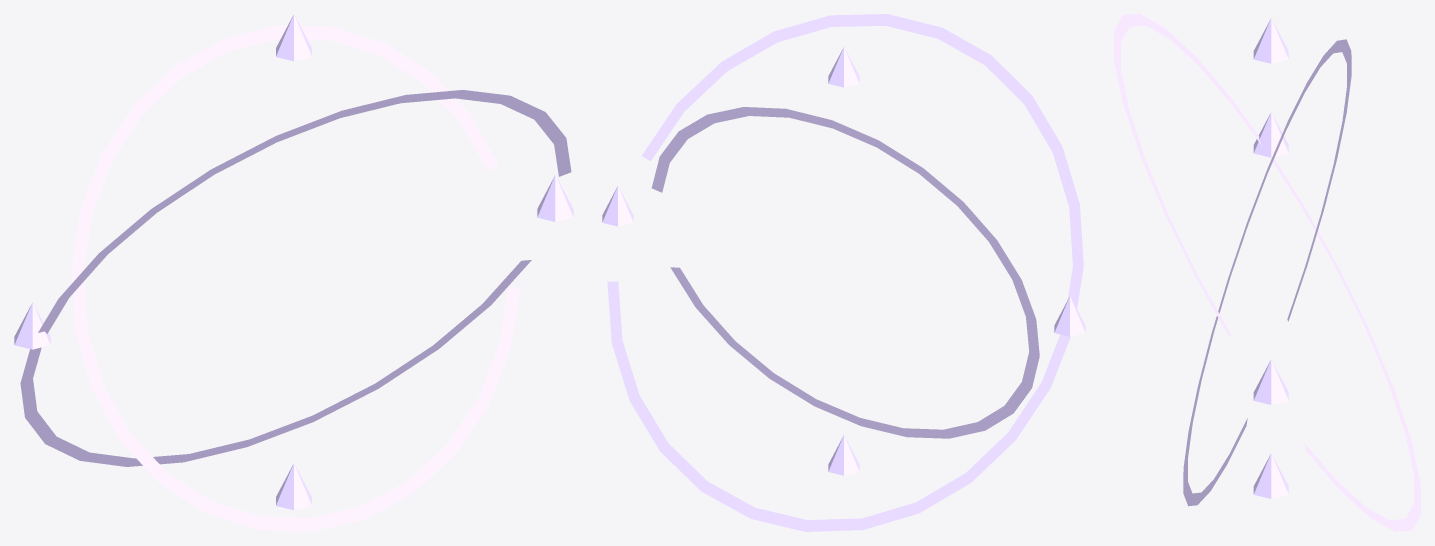
File: ORION_AWAKENED_BUILD.glb
3 renders of one model, left to right at view 1: azimuth 30°, elevation 25°; view 2: azimuth 150°, elevation 25°; view 3: azimuth 270°, elevation 25°, orthographic. The views are drawn at different scales.
Parts seen in each view (by area): view 1: ANI08C_orion-vell_1_orbit0, ANI08C_orion-vell_1_orbit1, ANI08C_orion-vell_1_orbital_node0, ANI08C_orion-vell_1_orbital_node3, ANI08C_orion-vell_1_orbital_node1, ANI08C_orion-vell_1_orbital_node2; view 2: ANI08C_orion-vell_1_orbit1, ANI08C_orion-vell_1_orbit0, ANI08C_orion-vell_1_orbital_node0, ANI08C_orion-vell_1_orbital_node3, ANI08C_orion-vell_1_orbital_node1, ANI08C_orion-vell_1_orbital_node2; view 3: ANI08C_orion-vell_1_orbit1, ANI08C_orion-vell_1_orbit0, ANI08C_orion-vell_1_orbital_node1, ANI08C_orion-vell_1_orbital_node0, ANI08C_orion-vell_1_orbital_node3, ANI08C_orion-vell_1_orbital_node2.
Part boxes in pixels (x1,y1,x2,y2): ANI08C_orion-vell_1_orbit0: (71, 25, 520, 531); ANI08C_orion-vell_1_orbit1: (20, 90, 571, 466); ANI08C_orion-vell_1_orbital_node0: (537, 175, 573, 221); ANI08C_orion-vell_1_orbital_node3: (276, 463, 311, 510); ANI08C_orion-vell_1_orbital_node1: (276, 14, 311, 61); ANI08C_orion-vell_1_orbital_node2: (14, 302, 50, 349); ANI08C_orion-vell_1_orbit1: (607, 14, 1083, 531); ANI08C_orion-vell_1_orbit0: (651, 107, 1039, 438); ANI08C_orion-vell_1_orbital_node0: (602, 186, 633, 226); ANI08C_orion-vell_1_orbital_node3: (828, 435, 859, 475); ANI08C_orion-vell_1_orbital_node1: (828, 47, 859, 87); ANI08C_orion-vell_1_orbital_node2: (1054, 296, 1085, 336); ANI08C_orion-vell_1_orbit1: (1114, 14, 1420, 531); ANI08C_orion-vell_1_orbit0: (1183, 39, 1351, 506); ANI08C_orion-vell_1_orbital_node1: (1253, 18, 1288, 63); ANI08C_orion-vell_1_orbital_node0: (1253, 359, 1288, 404); ANI08C_orion-vell_1_orbital_node3: (1253, 453, 1288, 498); ANI08C_orion-vell_1_orbital_node2: (1253, 112, 1288, 157).
Size of the model in its own units: 0.834 by 0.7086 by 0.4091.
